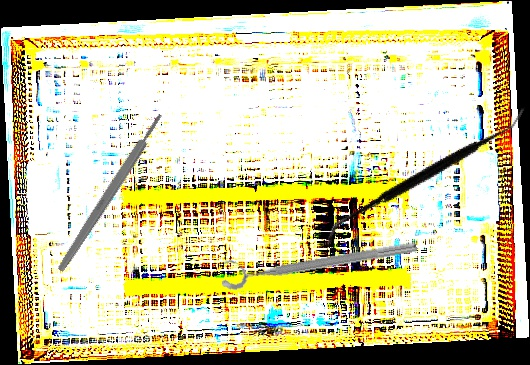Fixation Ring: (217, 226, 419, 292)
Scalpel Handle: (55, 111, 166, 274)
Spatula Surgical: (323, 54, 528, 299)
